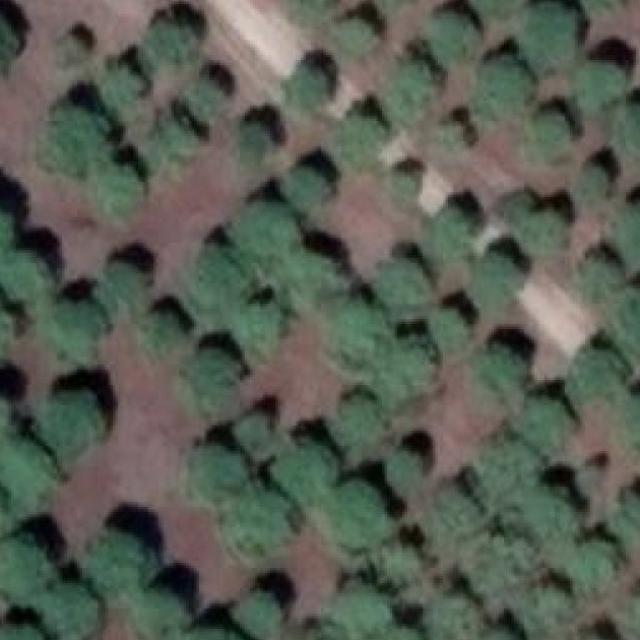Tree: (71, 530, 145, 592), (183, 245, 247, 314), (44, 109, 110, 172), (278, 253, 344, 314), (226, 497, 292, 558), (516, 0, 575, 68), (0, 434, 62, 498), (374, 344, 435, 408), (44, 385, 104, 449), (323, 483, 387, 542), (174, 348, 232, 412), (331, 302, 387, 368), (567, 344, 628, 404), (186, 446, 245, 507), (230, 205, 298, 256), (272, 441, 333, 497), (3, 258, 59, 319), (41, 583, 100, 640), (468, 248, 528, 304), (478, 57, 534, 116), (468, 530, 528, 584), (330, 583, 384, 640), (516, 393, 570, 449), (518, 490, 572, 546), (387, 60, 436, 119), (509, 202, 565, 253), (336, 398, 387, 454), (0, 536, 47, 596), (234, 302, 286, 356), (59, 298, 105, 359), (376, 253, 430, 304), (519, 583, 570, 637), (575, 53, 624, 109), (338, 114, 387, 168), (122, 585, 176, 634), (476, 348, 524, 403), (481, 446, 532, 497), (280, 162, 334, 210), (135, 306, 181, 361), (428, 12, 477, 63), (426, 596, 481, 640), (566, 540, 616, 588), (529, 106, 570, 160), (145, 22, 199, 63), (232, 591, 280, 637), (286, 62, 331, 111), (184, 75, 229, 124), (95, 172, 140, 220), (430, 485, 473, 530), (234, 411, 277, 456), (428, 300, 466, 350), (156, 124, 199, 168), (374, 541, 417, 584), (614, 285, 640, 356), (105, 261, 145, 307), (577, 256, 616, 302), (103, 68, 143, 112), (387, 449, 426, 493), (336, 17, 377, 58), (237, 124, 272, 170), (614, 204, 640, 262), (616, 395, 640, 454), (572, 165, 607, 205), (435, 205, 468, 246), (616, 491, 640, 542), (169, 626, 250, 640), (0, 618, 50, 640), (0, 200, 14, 274), (621, 100, 640, 151), (392, 170, 423, 200), (54, 38, 84, 68), (0, 9, 11, 85), (621, 591, 640, 634), (288, 0, 332, 17), (567, 629, 628, 640), (368, 629, 429, 640), (440, 121, 460, 151), (288, 631, 342, 640)
